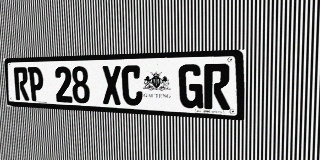2: (55, 66, 73, 103)
8: (71, 66, 90, 103)
C: (121, 65, 143, 106)
G: (179, 64, 203, 109)
P: (28, 67, 44, 101)
R: (204, 63, 230, 110), (13, 67, 29, 101)
X: (102, 65, 122, 105)
